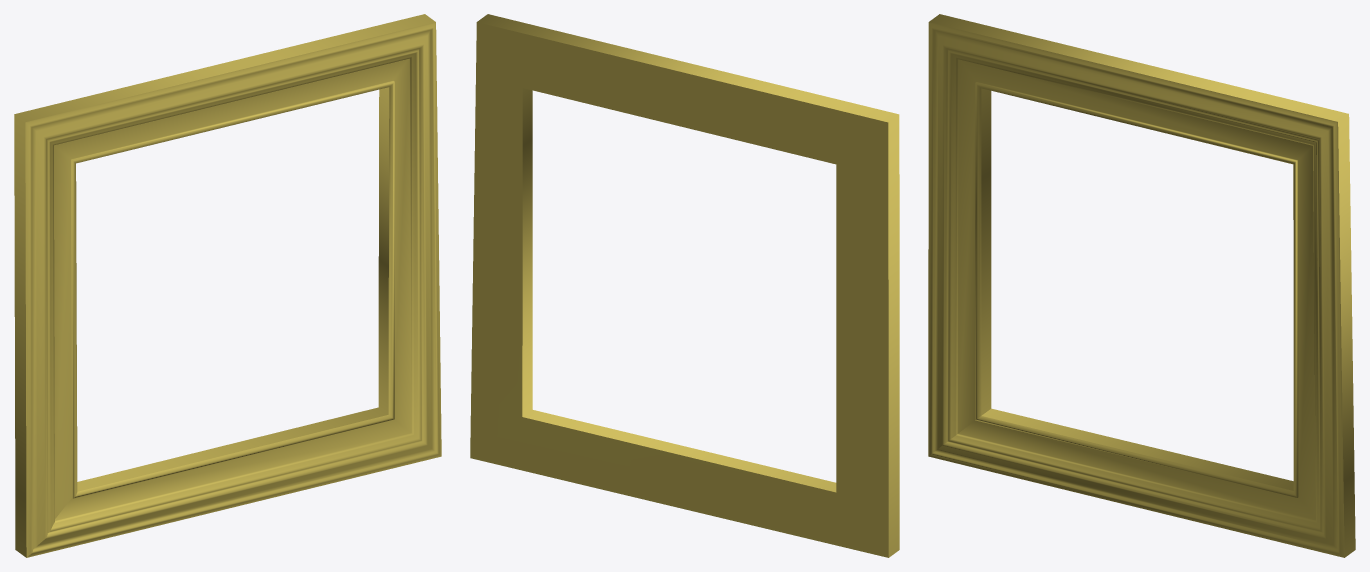
File: PictureFrame1FBX.fbx
3 views of the same model, side by side, from view 1: azimuth 30°, elevation 25°; view 2: azimuth 150°, elevation 25°; view 3: azimuth 330°, elevation 25° (orthographic).
Parts seen in each view (by area): view 1: pictureFrame; view 2: pictureFrame; view 3: pictureFrame.
Boxes of the visible parts, x1,y1,x2,y2 form: pictureFrame: (14,14,441,557); pictureFrame: (470,14,899,557); pictureFrame: (928,14,1355,557).
Bounding box in the file's own units: 12.79 × 12.8 × 0.775.
